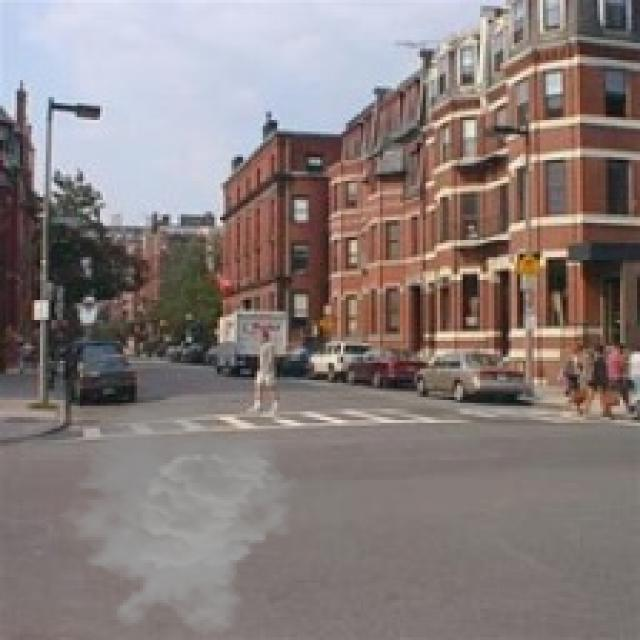Smoke: (48, 400, 303, 637)
